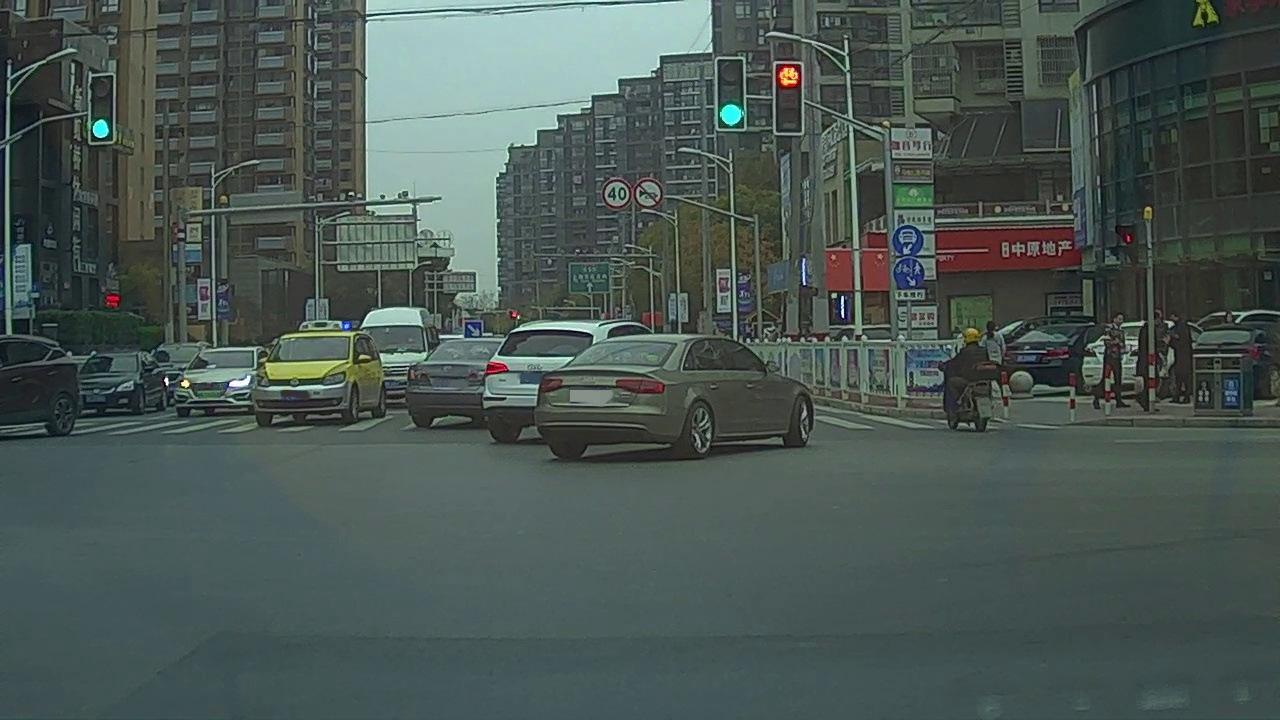traffic_light: (770, 62, 805, 136), (718, 57, 749, 129), (89, 73, 116, 146)
